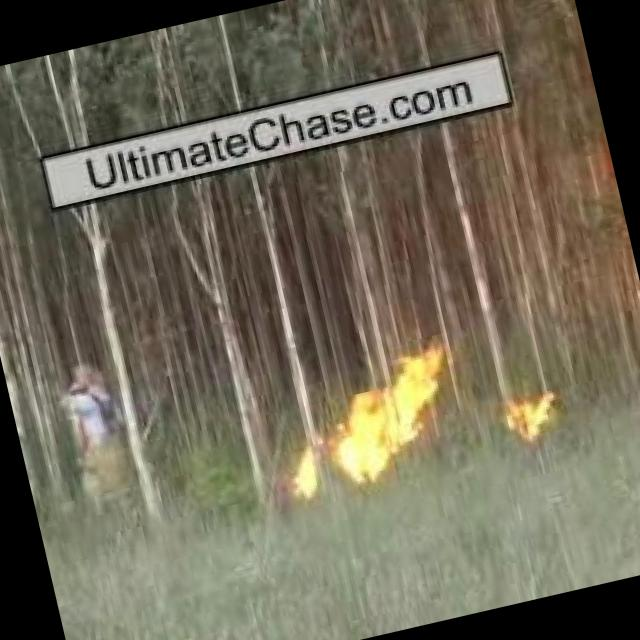Fire: (318, 336, 465, 492), (279, 434, 341, 514), (500, 391, 570, 450)
